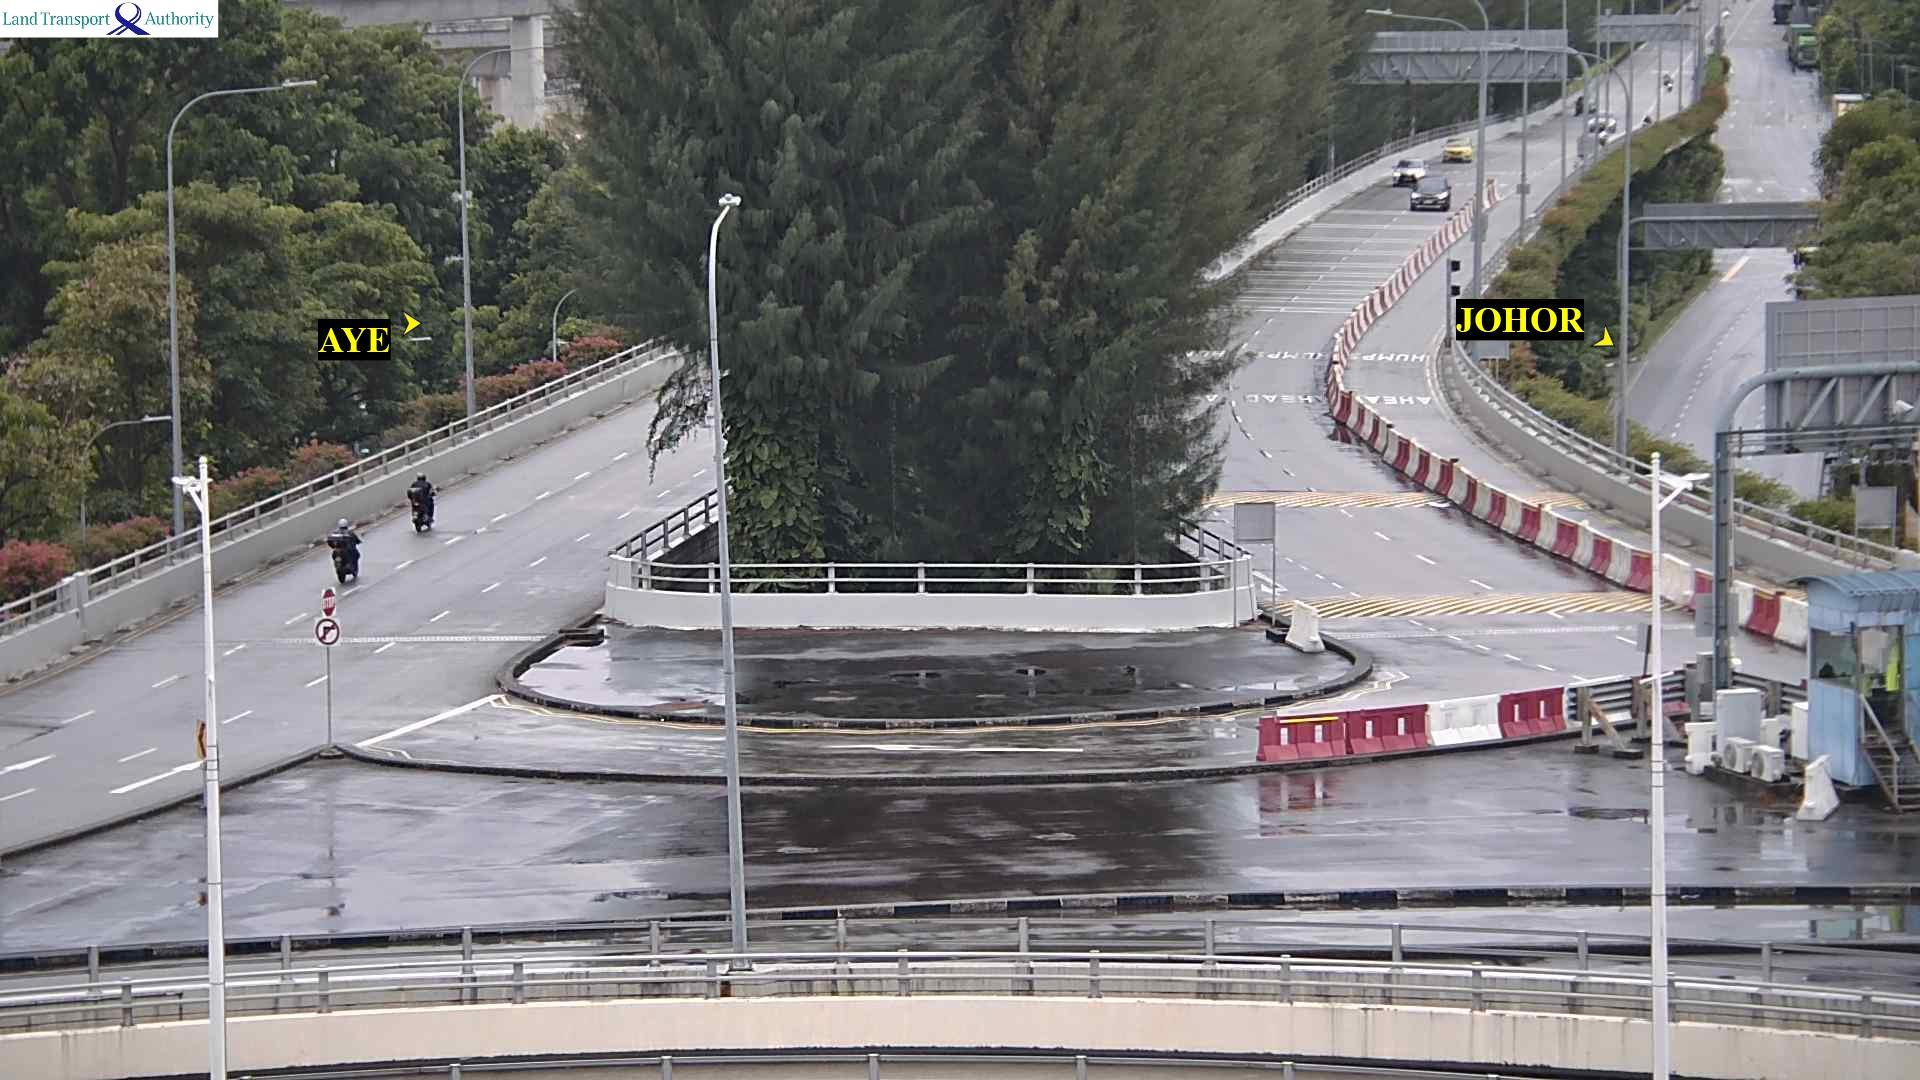vehicle-secondlink-johor: (1412, 177, 1448, 208), (1443, 137, 1473, 162), (1393, 159, 1425, 182)
vehicle-secondlink-singapore: (324, 518, 364, 582), (338, 521, 373, 586), (407, 479, 440, 532)
